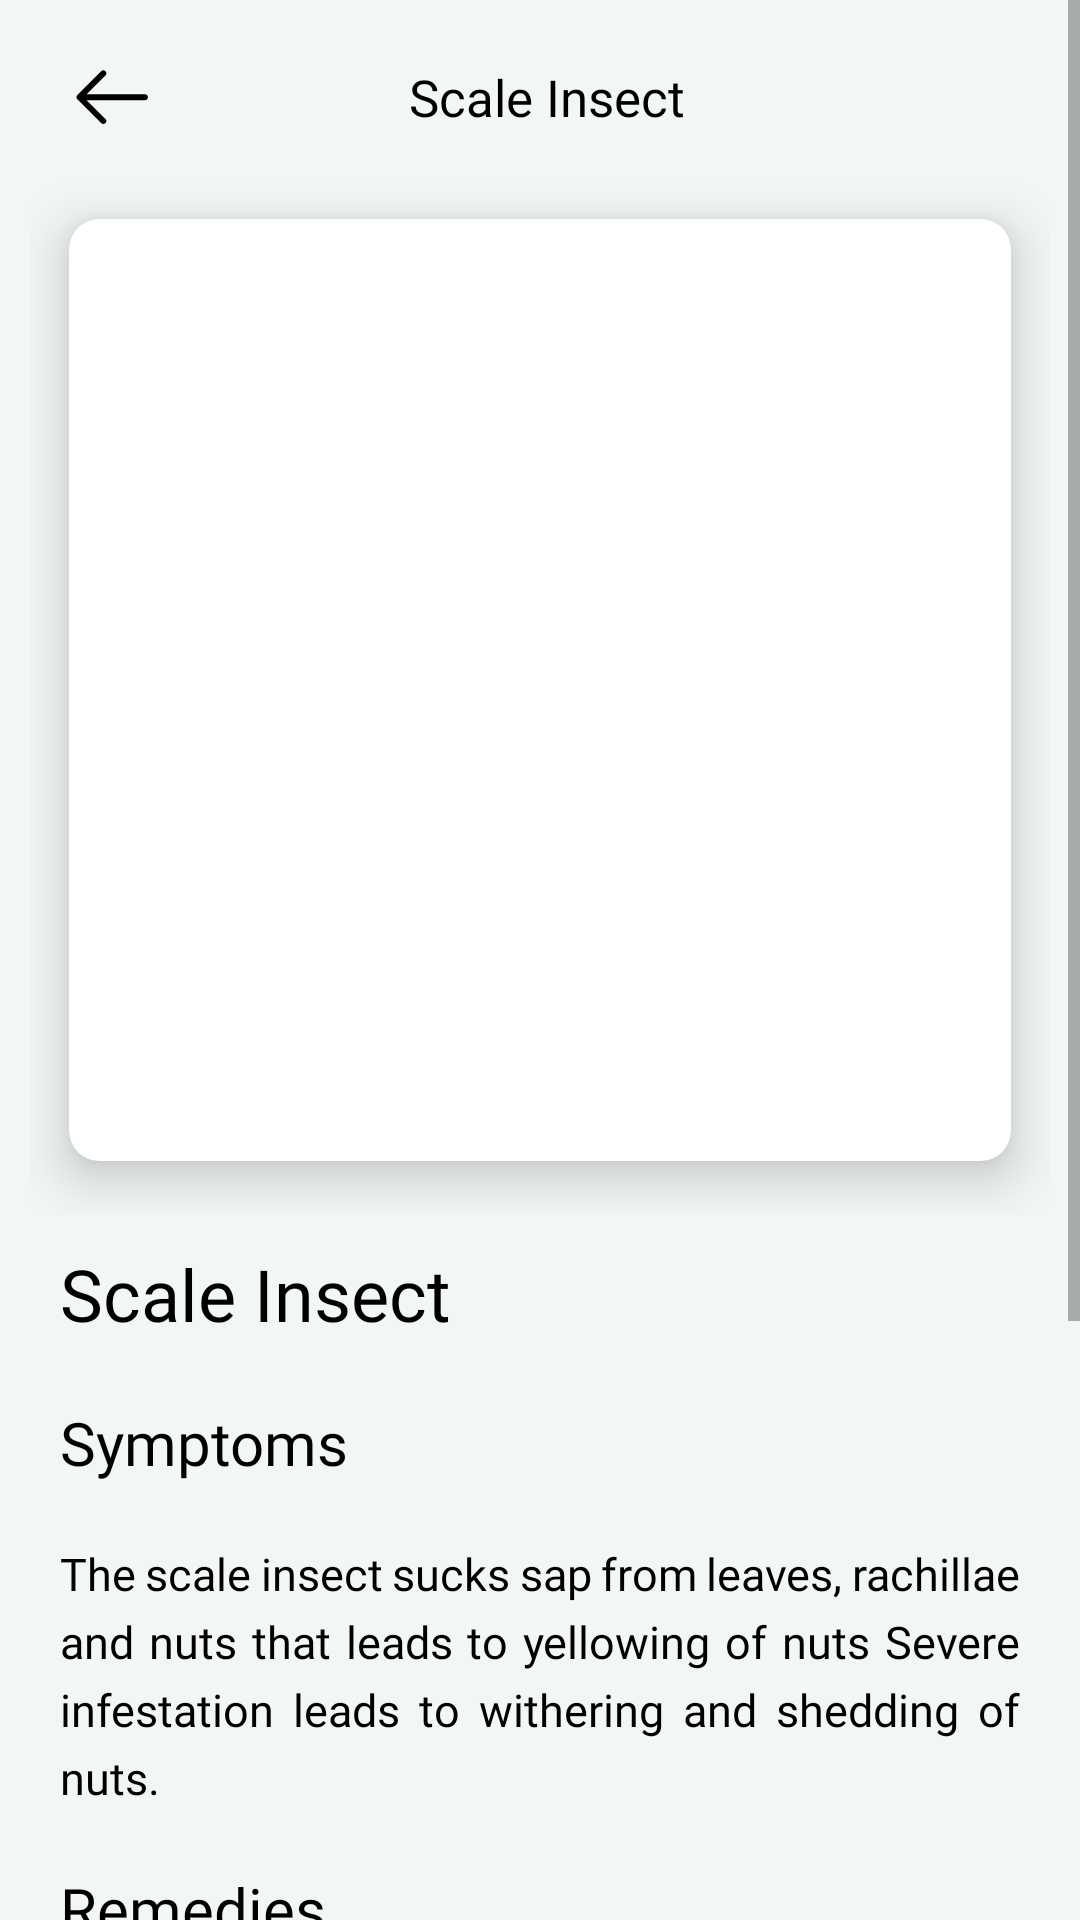

Point at icon controls on the screen. Image size 1080px×1920px, points as point (x, y).
back: point (112, 97)
